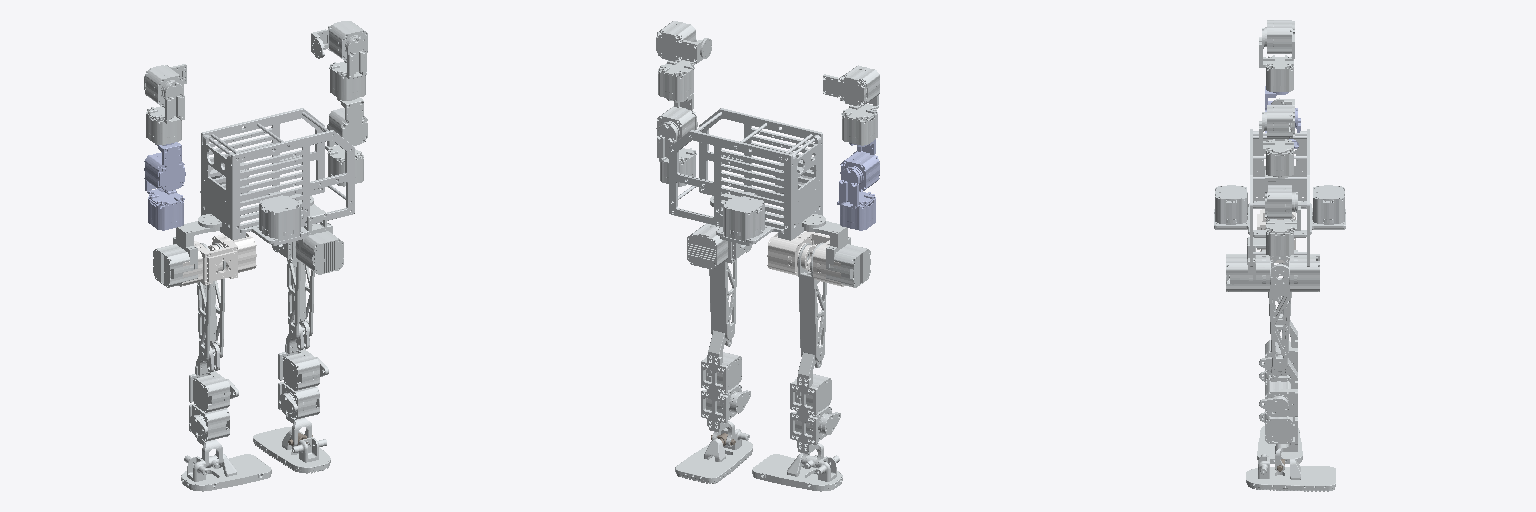
robot.urdf — hi_1_21_240731:
<?xml version="1.0" encoding="utf-8"?>
<!--
This URDF was automatically created by SolidWorks to URDF Exporter! Originally created by [author] ([email redacted])
Commit Version: 1.6.0-4-g7f85cfe  Build Version: 1.6.7995.38578
For more information, please see http://wiki.ros.org/sw_urdf_exporter
-->
<robot name="hi_1_21_240731">
	<link name="base_link">
		<inertial>
			<origin xyz="-7.537E-05 -9.877E-05 0.02006794" rpy="0 0 0" />
			<mass value="0.67789918" />
			<inertia ixx="0.00024244" ixy="1.12E-06" ixz="1.886E-05" iyy="0.00370034" iyz="5.3E-07" izz="0.00374356" />
		</inertial>
		<visual>
			<origin xyz="0 0 0" rpy="0 0 0" />
			<geometry>
				<mesh filename="../meshes/base_link.STL" />
			</geometry>
			<material name="">
				<color rgba="0.89412 0.91373 0.92941 1" />
			</material>
		</visual>
		<collision>
			<origin xyz="0 0 0" rpy="0 0 0" />
			<geometry>
				<mesh filename="../meshes/base_link.STL" />
			</geometry>
		</collision>
	</link>
	<link name="r_hip_yaw_link">
		<inertial>
			<origin xyz="-0.00012202 -0.052131 -0.052735" rpy="0 0 0" />
			<mass value="0.34954" />
			<inertia ixx="0.00025249" ixy="-4.5E-07" ixz="5.3E-07" iyy="0.00022813" iyz="-5.884E-05" izz="0.00016829" />
		</inertial>
		<visual>
			<origin xyz="0 0 0" rpy="0 0 0" />
			<geometry>
				<mesh filename="../meshes/r_hip_yaw_link.STL" />
			</geometry>
			<material name="">
				<color rgba="0.89804 0.91765 0.92941 1" />
			</material>
		</visual>
		<collision>
			<origin xyz="0 0 0" rpy="0 0 0" />
			<geometry>
				<mesh filename="../meshes/r_hip_yaw_link.STL" />
			</geometry>
		</collision>
	</link>
	<joint name="r_hip_yaw_joint" type="revolute">
		<origin xyz="0.075 0 0" rpy="0 0 0" />
		<parent link="base_link" />
		<child link="r_hip_yaw_link" />
		<axis xyz="0 0 1" />
		<limit lower="-0.6" upper="0.6" effort="21" velocity="21" />
	</joint>
	<link name="r_hip_roll_link">
		<inertial>
			<origin xyz="-0.00022682 -0.0021409 -0.00016674" rpy="0 0 0" />
			<mass value="0.67431" />
			<inertia ixx="0.00031647" ixy="4.2E-07" ixz="3.61E-06" iyy="0.00098969" iyz="4.2E-07" izz="0.0010163" />
		</inertial>
		<visual>
			<origin xyz="0 0 0" rpy="0 0 0" />
			<geometry>
				<mesh filename="../meshes/r_hip_roll_link.STL" />
			</geometry>
			<material name="">
				<color rgba="0.89804 0.91765 0.92941 1" />
			</material>
		</visual>
		<collision>
			<origin xyz="0 0 0" rpy="0 0 0" />
			<geometry>
				<mesh filename="../meshes/r_hip_roll_link.STL" />
			</geometry>
		</collision>
	</link>
	<joint name="r_hip_roll_joint" type="revolute">
		<origin xyz="0 0 -0.059" rpy="0 0 0" />
		<parent link="r_hip_yaw_link" />
		<child link="r_hip_roll_link" />
		<axis xyz="0 1 0" />
		<limit lower="-0.4" upper="0.22" effort="21" velocity="21" />
	</joint>
	<link name="r_thigh_link">
		<inertial>
			<origin xyz="0.00051013 0.0023326 -0.096411" rpy="0 0 0" />
			<mass value="0.19993" />
			<inertia ixx="0.00064072" ixy="2.1E-07" ixz="-9.29E-06" iyy="0.00063292" iyz="7.5E-06" izz="3.516E-05" />
		</inertial>
		<visual>
			<origin xyz="0 0 0" rpy="0 0 0" />
			<geometry>
				<mesh filename="../meshes/r_thigh_link.STL" />
			</geometry>
			<material name="">
				<color rgba="0.89804 0.91765 0.92941 1" />
			</material>
		</visual>
		<collision>
			<origin xyz="0 0 0" rpy="0 0 0" />
			<geometry>
				<mesh filename="../meshes/r_thigh_link.STL" />
			</geometry>
		</collision>
	</link>
	<joint name="r_thigh_joint" type="revolute">
		<origin xyz="0 0 0" rpy="0 0 0" />
		<parent link="r_hip_roll_link" />
		<child link="r_thigh_link" />
		<axis xyz="1 0 0" />
		<limit lower="-0.4" upper="2.25" effort="21" velocity="21" />
	</joint>
	<link name="r_calf_link">
		<inertial>
			<origin xyz="6.957E-05 -0.00092506 -0.09475741" rpy="0 0 0" />
			<mass value="0.54984799" />
			<inertia ixx="0.00073284" ixy="8.7E-07" ixz="-6.748E-05" iyy="0.00073948" iyz="-3.988E-05" izz="0.00027251" />
		</inertial>
		<visual>
			<origin xyz="0 0 0" rpy="0 0 0" />
			<geometry>
				<mesh filename="../meshes/r_calf_link.STL" />
			</geometry>
			<material name="">
				<color rgba="0.89804 0.91765 0.92941 1" />
			</material>
		</visual>
		<collision>
			<origin xyz="0 0 0" rpy="0 0 0" />
			<geometry>
				<mesh filename="../meshes/r_calf_link.STL" />
			</geometry>
		</collision>
	</link>
	<joint name="r_calf_joint" type="revolute">
		<origin xyz="0 0 -0.15" rpy="0 0 0" />
		<parent link="r_thigh_link" />
		<child link="r_calf_link" />
		<axis xyz="1 0 0" />
		<limit lower="-2.3" upper="0" effort="21" velocity="21" />
	</joint>
	<link name="r_ankle_pitch_link">
		<inertial>
			<origin xyz="0 0 0" rpy="0 0 0" />
			<mass value="0.011584" />
			<inertia ixx="1.12E-06" ixy="0" ixz="0" iyy="4.5E-07" iyz="0" izz="1.21E-06" />
		</inertial>
		<visual>
			<origin xyz="0 0 0" rpy="0 0 0" />
			<geometry>
				<mesh filename="../meshes/r_ankle_pitch_link.STL" />
			</geometry>
			<material name="">
				<color rgba="0.65098 0.61961 0.58824 1" />
			</material>
		</visual>
		<collision>
			<origin xyz="0 0 0" rpy="0 0 0" />
			<geometry>
				<mesh filename="../meshes/r_ankle_pitch_link.STL" />
			</geometry>
		</collision>
	</link>
	<joint name="r_ankle_pitch_joint" type="revolute">
		<origin xyz="0 0 -0.17545" rpy="0 0 0" />
		<parent link="r_calf_link" />
		<child link="r_ankle_pitch_link" />
		<axis xyz="1 0 0" />
		<limit lower="-0.5" upper="0.8" effort="21" velocity="21" />
	</joint>
	<link name="r_ankle_roll_link">
		<inertial>
			<origin xyz="2.06E-06 0.016631 -0.021104" rpy="0 0 0" />
			<mass value="0.26606" />
			<inertia ixx="0.00039542" ixy="1E-08" ixz="-2E-08" iyy="0.00010328" iyz="2.208E-05" izz="0.00045941" />
		</inertial>
		<visual>
			<origin xyz="0 0 0" rpy="0 0 0" />
			<geometry>
				<mesh filename="../meshes/r_ankle_roll_link.STL" />
			</geometry>
			<material name="">
				<color rgba="0.89804 0.91765 0.92941 1" />
			</material>
		</visual>
		<collision>
			<origin xyz="0 0 0" rpy="0 0 0" />
			<geometry>
				<mesh filename="../meshes/r_ankle_roll_link.STL" />
			</geometry>
		</collision>
	</link>
	<joint name="r_ankle_roll_joint" type="revolute">
		<origin xyz="0 0 0" rpy="0 0 0" />
		<parent link="r_ankle_pitch_link" />
		<child link="r_ankle_roll_link" />
		<axis xyz="0 1 0" />
		<limit lower="-0.4" upper="0.4" effort="21" velocity="21" />
	</joint>
	<link name="l_hip_yaw_link">
		<inertial>
			<origin xyz="6.958E-05 -0.052878 -0.052882" rpy="0 0 0" />
			<mass value="0.34954" />
			<inertia ixx="0.00025057" ixy="2.6E-07" ixz="-3.9E-07" iyy="0.00023311" iyz="-5.987E-05" izz="0.00016652" />
		</inertial>
		<visual>
			<origin xyz="0 0 0" rpy="0 0 0" />
			<geometry>
				<mesh filename="../meshes/l_hip_yaw_link.STL" />
			</geometry>
			<material name="">
				<color rgba="0.89804 0.91765 0.92941 1" />
			</material>
		</visual>
		<collision>
			<origin xyz="0 0 0" rpy="0 0 0" />
			<geometry>
				<mesh filename="../meshes/l_hip_yaw_link.STL" />
			</geometry>
		</collision>
	</link>
	<joint name="l_hip_yaw_joint" type="revolute">
		<origin xyz="-0.075 0 0" rpy="0 0 0" />
		<parent link="base_link" />
		<child link="l_hip_yaw_link" />
		<axis xyz="0 0 1" />
		<limit lower="-0.6" upper="0.6" effort="21" velocity="21" />
	</joint>
	<link name="l_hip_roll_link">
		<inertial>
			<origin xyz="0.00022682 -0.00198932 -0.00016674" rpy="0 0 0" />
			<mass value="0.67430799" />
			<inertia ixx="0.00032559" ixy="-3.9E-07" ixz="-2.13E-06" iyy="0.00101903" iyz="4E-07" izz="0.00104452" />
		</inertial>
		<visual>
			<origin xyz="0 0 0" rpy="0 0 0" />
			<geometry>
				<mesh filename="../meshes/l_hip_roll_link.STL" />
			</geometry>
			<material name="">
				<color rgba="1 1 1 1" />
			</material>
		</visual>
		<collision>
			<origin xyz="0 0 0" rpy="0 0 0" />
			<geometry>
				<mesh filename="../meshes/l_hip_roll_link.STL" />
			</geometry>
		</collision>
	</link>
	<joint name="l_hip_roll_joint" type="revolute">
		<origin xyz="0 0 -0.059" rpy="0 0 0" />
		<parent link="l_hip_yaw_link" />
		<child link="l_hip_roll_link" />
		<axis xyz="0 1 0" />
		<limit lower="-0.22" upper="0.4" effort="21" velocity="21" />
	</joint>
	<link name="l_thigh_link">
		<inertial>
			<origin xyz="0.00051013 0.0023326 -0.096411" rpy="0 0 0" />
			<mass value="0.19993" />
			<inertia ixx="0.00064072" ixy="2.1E-07" ixz="-9.29E-06" iyy="0.00063292" iyz="7.5E-06" izz="3.516E-05" />
		</inertial>
		<visual>
			<origin xyz="0 0 0" rpy="0 0 0" />
			<geometry>
				<mesh filename="../meshes/r_thigh_link.STL" />
			</geometry>
			<material name="">
				<color rgba="0.89804 0.91765 0.92941 1" />
			</material>
		</visual>
		<collision>
			<origin xyz="0 0 0" rpy="0 0 0" />
			<geometry>
				<mesh filename="../meshes/r_thigh_link.STL" />
			</geometry>
		</collision>
	</link>
	<joint name="l_thigh_joint" type="revolute">
		<origin xyz="0 0 0" rpy="0 0 0" />
		<parent link="l_hip_roll_link" />
		<child link="l_thigh_link" />
		<axis xyz="1 0 0" />
		<limit lower="-0.4" upper="2.25" effort="21" velocity="21" />
	</joint>
	<link name="l_calf_link">
		<inertial>
			<origin xyz="6.957E-05 -0.00092506 -0.09475741" rpy="0 0 0" />
			<mass value="0.54984799" />
			<inertia ixx="0.00073284" ixy="8.7E-07" ixz="-6.748E-05" iyy="0.00073948" iyz="-3.988E-05" izz="0.00027251" />
		</inertial>
		<visual>
			<origin xyz="0 0 0" rpy="0 0 0" />
			<geometry>
				<mesh filename="../meshes/r_calf_link.STL" />
			</geometry>
			<material name="">
				<color rgba="0.89804 0.91765 0.92941 1" />
			</material>
		</visual>
		<collision>
			<origin xyz="0 0 0" rpy="0 0 0" />
			<geometry>
				<mesh filename="../meshes/r_calf_link.STL" />
			</geometry>
		</collision>
	</link>
	<joint name="l_calf_joint" type="revolute">
		<origin xyz="0 0 -0.15" rpy="0 0 0" />
		<parent link="l_thigh_link" />
		<child link="l_calf_link" />
		<axis xyz="1 0 0" />
		<limit lower="-2.3" upper="0" effort="21" velocity="21" />
	</joint>
	<link name="l_ankle_pitch_link">
		<inertial>
			<origin xyz="0 0 0" rpy="0 0 0" />
			<mass value="0.011584" />
			<inertia ixx="1.12E-06" ixy="0" ixz="0" iyy="4.5E-07" iyz="0" izz="1.21E-06" />
		</inertial>
		<visual>
			<origin xyz="0 0 0" rpy="0 0 0" />
			<geometry>
				<mesh filename="../meshes/l_ankle_pitch_link.STL" />
			</geometry>
			<material name="">
				<color rgba="0.89804 0.91765 0.92941 1" />
			</material>
		</visual>
		<collision>
			<origin xyz="0 0 0" rpy="0 0 0" />
			<geometry>
				<mesh filename="../meshes/l_ankle_pitch_link.STL" />
			</geometry>
		</collision>
	</link>
	<joint name="l_ankle_pitch_joint" type="revolute">
		<origin xyz="0 0 -0.17545" rpy="0 0 0" />
		<parent link="l_calf_link" />
		<child link="l_ankle_pitch_link" />
		<axis xyz="1 0 0" />
		<limit lower="-0.5" upper="0.8" effort="21" velocity="21" />
	</joint>
	<link name="l_ankle_roll_link">
		<inertial>
			<origin xyz="0 0.017001 -0.021335" rpy="0 0 0" />
			<mass value="0.26319" />
			<inertia ixx="0.00039075" ixy="0" ixz="2E-08" iyy="0.00010189" iyz="2E-05" izz="0.00045603" />
		</inertial>
		<visual>
			<origin xyz="0 0 0" rpy="0 0 0" />
			<geometry>
				<mesh filename="../meshes/l_ankle_roll_link.STL" />
			</geometry>
			<material name="">
				<color rgba="0.89804 0.91765 0.92941 1" />
			</material>
		</visual>
		<collision>
			<origin xyz="0 0 0" rpy="0 0 0" />
			<geometry>
				<mesh filename="../meshes/l_ankle_roll_link.STL" />
			</geometry>
		</collision>
	</link>
	<joint name="l_ankle_roll_joint" type="revolute">
		<origin xyz="0 0 0" rpy="0 0 0" />
		<parent link="l_ankle_pitch_link" />
		<child link="l_ankle_roll_link" />
		<axis xyz="0 1 0" />
		<limit lower="-3.14" upper="3.14" effort="21" velocity="21" />
	</joint>
	<link name="waist_yaw_link">
		<inertial>
			<origin xyz="-1.562E-05 -0.00801071 0.12043115" rpy="0 0 0" />
			<mass value="2.442" />
			<inertia ixx="0.0038077" ixy="-6E-08" ixz="-1.15E-06" iyy="0.00450468" iyz="-9.585E-05" izz="0.00218872" />
		</inertial>
		<visual>
			<origin xyz="0 0 0" rpy="0 0 0" />
			<geometry>
				<mesh filename="../meshes/waist_yaw_link.STL" />
			</geometry>
			<material name="">
				<color rgba="1 1 1 1" />
			</material>
		</visual>
		<collision>
			<origin xyz="0 0 0" rpy="0 0 0" />
			<geometry>
				<mesh filename="../meshes/waist_yaw_link.STL" />
			</geometry>
		</collision>
	</link>
	<joint name="waist_yaw_joint" type="revolute">
		<origin xyz="0 0 0.0161" rpy="0 0 0" />
		<parent link="base_link" />
		<child link="waist_yaw_link" />
		<axis xyz="0 0 1" />
		<limit lower="-3.14" upper="3.14" effort="21" velocity="21" />
	</joint>
	<link name="r_shoulder_pitch_link">
		<inertial>
			<origin xyz="0.04726596 -0.00143519 -0.00014687" rpy="0 0 0" />
			<mass value="0.24141449" />
			<inertia ixx="9.039E-05" ixy="9.63E-06" ixz="-4.3E-07" iyy="0.00011586" iyz="1.1E-07" izz="0.00012631" />
		</inertial>
		<visual>
			<origin xyz="0 0 0" rpy="0 0 0" />
			<geometry>
				<mesh filename="../meshes/r_shoulder_pitch_link.STL" />
			</geometry>
			<material name="">
				<color rgba="0.89804 0.91765 0.92941 1" />
			</material>
		</visual>
		<collision>
			<origin xyz="0 0 0" rpy="0 0 0" />
			<geometry>
				<mesh filename="../meshes/r_shoulder_pitch_link.STL" />
			</geometry>
		</collision>
	</link>
	<joint name="r_shoulder_pitch_joint" type="revolute">
		<origin xyz="0.103 0 0.219" rpy="0 0 0" />
		<parent link="waist_yaw_link" />
		<child link="r_shoulder_pitch_link" />
		<axis xyz="1 0 0" />
		<limit lower="-3.14" upper="3.14" effort="21" velocity="21" />
	</joint>
	<link name="r_shoulder_roll_link">
		<inertial>
			<origin xyz="-0.00011391 0.020532 -0.06124" rpy="0 0 0" />
			<mass value="0.23929" />
			<inertia ixx="0.00015993" ixy="-3.1E-07" ixz="2E-06" iyy="0.00014377" iyz="3.136E-05" izz="9.482E-05" />
		</inertial>
		<visual>
			<origin xyz="0 0 0" rpy="0 0 0" />
			<geometry>
				<mesh filename="../meshes/r_shoulder_roll_link.STL" />
			</geometry>
			<material name="">
				<color rgba="0.89804 0.91765 0.92941 1" />
			</material>
		</visual>
		<collision>
			<origin xyz="0 0 0" rpy="0 0 0" />
			<geometry>
				<mesh filename="../meshes/r_shoulder_roll_link.STL" />
			</geometry>
		</collision>
	</link>
	<joint name="r_shoulder_roll_joint" type="revolute">
		<origin xyz="0.051 -0.0234 0" rpy="0 0 0" />
		<parent link="r_shoulder_pitch_link" />
		<child link="r_shoulder_roll_link" />
		<axis xyz="0 1 0" />
		<limit lower="-3.14" upper="3.14" effort="21" velocity="21" />
	</joint>
	<link name="r_elbow_yaw_link">
		<inertial>
			<origin xyz="-7.829E-05 0.00068959 -0.04659112" rpy="0 0 0" />
			<mass value="0.24141449" />
			<inertia ixx="0.00012313" ixy="-7.5E-07" ixz="5.1E-07" iyy="0.00011397" iyz="8.06E-06" izz="8.924E-05" />
		</inertial>
		<visual>
			<origin xyz="0 0 0" rpy="0 0 0" />
			<geometry>
				<mesh filename="../meshes/r_elbow_yaw_link.STL" />
			</geometry>
			<material name="">
				<color rgba="0.89804 0.91765 0.92941 1" />
			</material>
		</visual>
		<collision>
			<origin xyz="0 0 0" rpy="0 0 0" />
			<geometry>
				<mesh filename="../meshes/r_elbow_yaw_link.STL" />
			</geometry>
		</collision>
	</link>
	<joint name="r_elbow_yaw_joint" type="revolute">
		<origin xyz="0 0.0234 -0.0867" rpy="0 0 0" />
		<parent link="r_shoulder_roll_link" />
		<child link="r_elbow_yaw_link" />
		<axis xyz="0 0 1" />
		<limit lower="-3.14" upper="3.14" effort="21" velocity="21" />
	</joint>
	<link name="r_elbow_roll_link">
		<inertial>
			<origin xyz="-0.00281481 -0.01933601 -0.06124017" rpy="0 0 0" />
			<mass value="0.239293" />
			<inertia ixx="0.00015951" ixy="-3.1E-07" ixz="-1.35E-06" iyy="0.00014379" iyz="-3.134E-05" izz="9.441E-05" />
		</inertial>
		<visual>
			<origin xyz="0 0 0" rpy="0 0 0" />
			<geometry>
				<mesh filename="../meshes/r_elbow_roll_link.STL" />
			</geometry>
			<material name="">
				<color rgba="0.89804 0.91765 0.92941 1" />
			</material>
		</visual>
		<collision>
			<origin xyz="0 0 0" rpy="0 0 0" />
			<geometry>
				<mesh filename="../meshes/r_elbow_roll_link.STL" />
			</geometry>
		</collision>
	</link>
	<joint name="r_elbow_roll_joint" type="revolute">
		<origin xyz="0 0.0225 -0.0501" rpy="0 0 0" />
		<parent link="r_elbow_yaw_link" />
		<child link="r_elbow_roll_link" />
		<axis xyz="0 1 0" />
		<limit lower="-3.14" upper="3.14" effort="21" velocity="21" />
	</joint>
	<link name="l_shoulder_pitch_link">
		<inertial>
			<origin xyz="-0.04994717 -0.00177898 0.0001557" rpy="0 0 0" />
			<mass value="0.22773061" />
			<inertia ixx="8.793E-05" ixy="-6.08E-06" ixz="5.3E-07" iyy="8.593E-05" iyz="1.2E-07" izz="9.585E-05" />
		</inertial>
		<visual>
			<origin xyz="0 0 0" rpy="0 0 0" />
			<geometry>
				<mesh filename="../meshes/l_shoulder_pitch_link.STL" />
			</geometry>
			<material name="">
				<color rgba="0.89804 0.91765 0.92941 1" />
			</material>
		</visual>
		<collision>
			<origin xyz="0 0 0" rpy="0 0 0" />
			<geometry>
				<mesh filename="../meshes/l_shoulder_pitch_link.STL" />
			</geometry>
		</collision>
	</link>
	<joint name="l_shoulder_pitch_joint" type="revolute">
		<origin xyz="-0.103 0 0.219" rpy="0 0 0" />
		<parent link="waist_yaw_link" />
		<child link="l_shoulder_pitch_link" />
		<axis xyz="1 0 0" />
		<limit lower="-3.14" upper="3.14" effort="21" velocity="21" />
	</joint>
	<link name="l_shoulder_roll_link">
		<inertial>
			<origin xyz="0.00011391 0.02053236 -0.06124018" rpy="0 0 0" />
			<mass value="0.23929294" />
			<inertia ixx="0.00015993" ixy="3.1E-07" ixz="-2E-06" iyy="0.00014377" iyz="3.136E-05" izz="9.482E-05" />
		</inertial>
		<visual>
			<origin xyz="0 0 0" rpy="0 0 0" />
			<geometry>
				<mesh filename="../meshes/l_shoulder_roll_link.STL" />
			</geometry>
			<material name="">
				<color rgba="0.89804 0.91765 0.92941 1" />
			</material>
		</visual>
		<collision>
			<origin xyz="0 0 0" rpy="0 0 0" />
			<geometry>
				<mesh filename="../meshes/l_shoulder_roll_link.STL" />
			</geometry>
		</collision>
	</link>
	<joint name="l_shoulder_roll_joint" type="revolute">
		<origin xyz="-0.051 -0.0234 0" rpy="0 0 0" />
		<parent link="l_shoulder_pitch_link" />
		<child link="l_shoulder_roll_link" />
		<axis xyz="0 1 0" />
		<limit lower="-3.14" upper="3.14" effort="21" velocity="21" />
	</joint>
	<link name="l_elbow_yaw_link">
		<inertial>
			<origin xyz="3.261E-05 0.00087374 -0.0482023" rpy="0 0 0" />
			<mass value="0.23279871" />
			<inertia ixx="0.00010527" ixy="7E-07" ixz="-3E-08" iyy="9.636E-05" iyz="6.22E-06" izz="8.775E-05" />
		</inertial>
		<visual>
			<origin xyz="0 0 0" rpy="0 0 0" />
			<geometry>
				<mesh filename="../meshes/l_elbow_yaw_link.STL" />
			</geometry>
			<material name="">
				<color rgba="0.79216 0.81961 0.93333 1" />
			</material>
		</visual>
		<collision>
			<origin xyz="0 0 0" rpy="0 0 0" />
			<geometry>
				<mesh filename="../meshes/l_elbow_yaw_link.STL" />
			</geometry>
		</collision>
	</link>
	<joint name="l_elbow_yaw_joint" type="revolute">
		<origin xyz="0 0.0234 -0.0867" rpy="0 0 0" />
		<parent link="l_shoulder_roll_link" />
		<child link="l_elbow_yaw_link" />
		<axis xyz="0 0 1" />
		<limit lower="-3.14" upper="3.14" effort="21" velocity="21" />
	</joint>
	<link name="l_elbow_roll_link">
		<inertial>
			<origin xyz="0.00275142 -0.01938616 -0.0620045" rpy="0 0 0" />
			<mass value="0.22957426" />
			<inertia ixx="0.00015402" ixy="3.3E-07" ixz="1.62E-06" iyy="0.0001391" iyz="-3.111E-05" izz="9.087E-05" />
		</inertial>
		<visual>
			<origin xyz="0 0 0" rpy="0 0 0" />
			<geometry>
				<mesh filename="../meshes/l_elbow_roll_link.STL" />
			</geometry>
			<material name="">
				<color rgba="0.79216 0.81961 0.93333 1" />
			</material>
		</visual>
		<collision>
			<origin xyz="0 0 0" rpy="0 0 0" />
			<geometry>
				<mesh filename="../meshes/l_elbow_roll_link.STL" />
			</geometry>
		</collision>
	</link>
	<joint name="l_elbow_roll_link" type="revolute">
		<origin xyz="0 0.0225 -0.0501" rpy="0 0 0" />
		<parent link="l_elbow_yaw_link" />
		<child link="l_elbow_roll_link" />
		<axis xyz="0 1 0" />
		<limit lower="-3.14" upper="3.14" effort="21" velocity="21" />
	</joint>
</robot>

--- Facts derived from the render (not from the file) ---
Views: 3 orthographic renders of the robot side by side, from view 1: azimuth 30°, elevation 25°; view 2: azimuth 150°, elevation 25°; view 3: azimuth 270°, elevation 25°.
Robot: hi_1_21_240731 — 22 links, 21 joints (21 revolute); root link base_link; default pose: every joint at zero.
Visible links, largest first — view 1: base_link, r_calf_link, l_calf_link, l_hip_roll_link, l_hip_yaw_link, l_ankle_roll_link, r_ankle_roll_link, r_hip_yaw_link, l_thigh_link, l_shoulder_roll_link, r_shoulder_roll_link, r_thigh_link (+6 smaller); view 2: base_link, l_calf_link, r_calf_link, l_hip_yaw_link, l_ankle_roll_link, r_ankle_roll_link, l_hip_roll_link, l_thigh_link, r_hip_roll_link, l_elbow_roll_link, r_shoulder_pitch_link, r_thigh_link (+6 smaller); view 3: base_link, r_calf_link, r_ankle_roll_link, r_hip_roll_link, r_thigh_link, r_elbow_roll_link, r_shoulder_roll_link, l_shoulder_roll_link, r_hip_yaw_link, r_shoulder_pitch_link, r_elbow_yaw_link, l_shoulder_pitch_link (+2 smaller).
Boxes of the visible links, x1,y1,x2,y2 form: base_link: (200,108,354,245); r_calf_link: (278,321,328,446); l_calf_link: (189,343,238,467); l_hip_roll_link: (179,233,256,286); l_hip_yaw_link: (153,214,221,287); l_ankle_roll_link: (181,454,271,491); r_ankle_roll_link: (253,427,330,473); r_hip_yaw_link: (290,194,343,274); l_thigh_link: (197,243,225,361); l_shoulder_roll_link: (146,82,184,145); r_shoulder_roll_link: (329,37,366,100); r_thigh_link: (287,259,314,339); base_link: (669,108,822,245); l_calf_link: (790,352,840,467); r_calf_link: (701,331,750,446); l_hip_yaw_link: (802,214,870,287); l_ankle_roll_link: (752,453,842,491); r_ankle_roll_link: (675,428,752,483); l_hip_roll_link: (767,231,844,286); l_thigh_link: (798,243,826,361); r_hip_roll_link: (687,223,751,269); l_elbow_roll_link: (837,167,875,230); r_shoulder_pitch_link: (656,21,711,62); r_thigh_link: (709,222,736,339); base_link: (1214,129,1345,266); r_calf_link: (1259,352,1297,472); r_ankle_roll_link: (1246,454,1335,491); r_hip_roll_link: (1240,250,1319,291); r_thigh_link: (1268,256,1291,371); r_elbow_roll_link: (1266,192,1300,255); r_shoulder_roll_link: (1259,112,1293,176); l_shoulder_roll_link: (1259,28,1293,91); r_hip_yaw_link: (1226,237,1265,291); r_shoulder_pitch_link: (1265,98,1294,137); r_elbow_yaw_link: (1265,170,1294,218); l_shoulder_pitch_link: (1265,20,1294,58).
Size in the robot's own frame: 0.3515 by 0.204 by 0.6718 metres.
Meshes: 20 distinct files referenced, 21 mesh visuals loaded (19 binary STL); not drawn: 1 (reference not matched to a file when rendering).